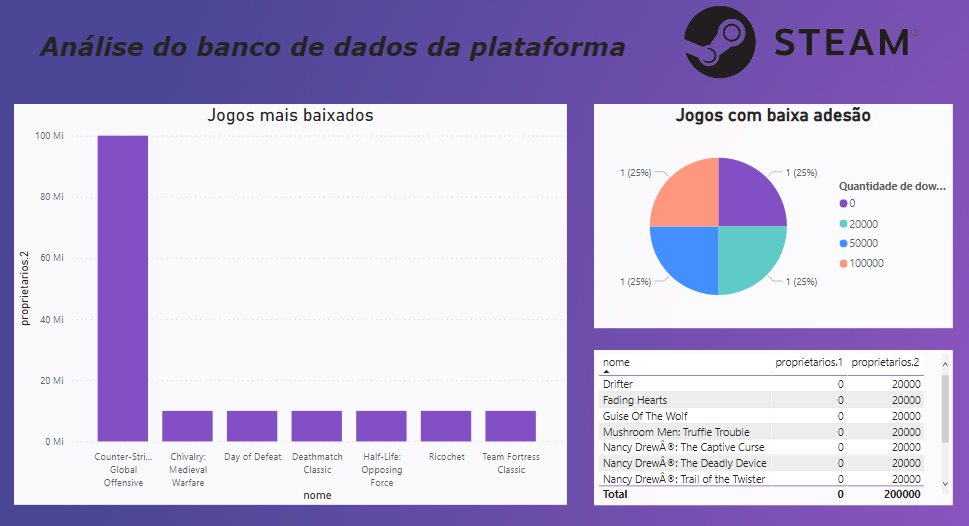

What the dashboard file says about the page in this screenshot:
{"tool":"powerbi","page":{"name":"Jogos mais e menos baixados ","canvas":[1280,720],"ordinal":3},"visuals":[{"type":"image","box":[856.4,39.9,357.8,121.3],"z":0},{"type":"textbox","box":[41.6,87.7,805.9,52.3],"z":1000},{"type":"columnChart","title":"Jogos mais baixados","fields":{"Category":["bdsteam steam_dados.nome"],"Y":["Sum(bdsteam steam_dados.proprietarios.2)"]},"box":[41.8,184.8,698.4,505.8],"z":2000},{"type":"pieChart","title":"Jogos com baixa adesão","fields":{"Category":["bdsteam steam_dados.proprietarios.1"],"Y":["Count(bdsteam steam_dados.proprietarios.1)"]},"box":[842.3,184.8,384.2,282.1],"z":3000},{"type":"tableEx","fields":{"Values":["bdsteam steam_dados.nome","Sum(bdsteam steam_dados.proprietarios.1)"]},"box":[842.3,495.1,384.2,195.5],"z":4000}]}

Visuals, with their boxes on the page's 1280x720 design canvas (x1, y1, x2, y2). These are canvas units, not pixel positions in the 969x526 screenshot, which may show the page scaled, cropped or inside an application window:
image: x1=856 y1=40 x2=1214 y2=161
textbox: x1=42 y1=88 x2=848 y2=140
"Jogos mais baixados" columnChart: x1=42 y1=185 x2=740 y2=691
"Jogos com baixa adesão" pieChart: x1=842 y1=185 x2=1226 y2=467
tableEx - bdsteam steam_dados.nome x Sum(bdsteam steam_dados.proprietarios.1): x1=842 y1=495 x2=1226 y2=691
